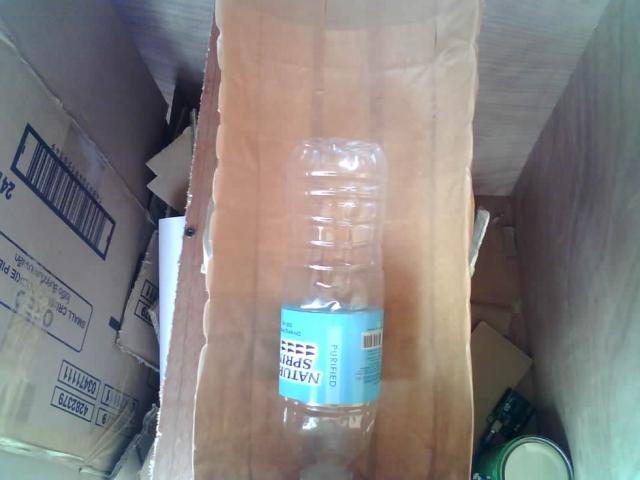small_bottle: (253, 120, 401, 480)
